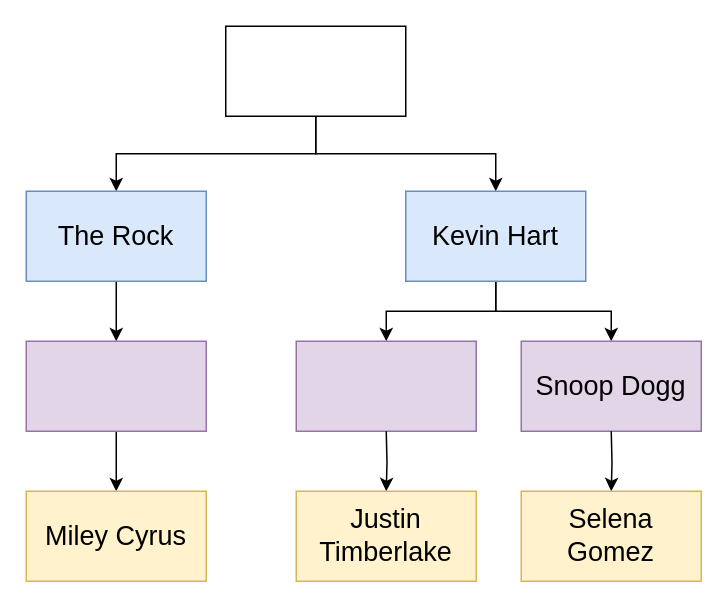
Some shapes in this 728 by 608 pixel diagram are drawn without their labels. The shapes that lost their labels are listed below. From the top down, each one's centre as x and y in pixels, then its label:
At (x=315, y=70): "me 1000".
At (x=115, y=385): "Justin Beiber".
At (x=385, y=385): "Jennifer Lopez".
